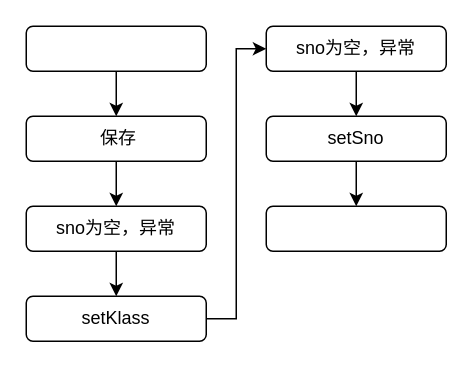
The diagram is 473 pixels wide and 368 high, and some of its shapes have lost their labels. Here are the shapes that lost their labels. From the top down, the centre of each, then its label:
(x=115, y=48): Stuent
(x=355, y=228): sno不为null,正常
